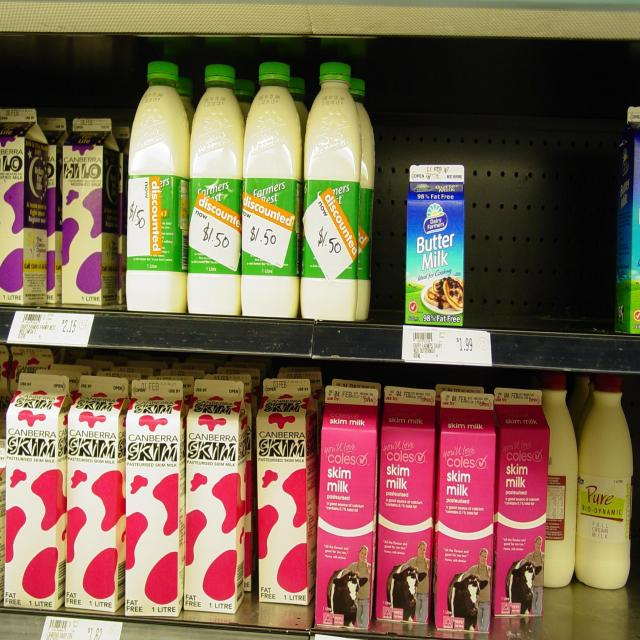void: (469, 96, 607, 329), (377, 115, 403, 321), (546, 582, 635, 640)
